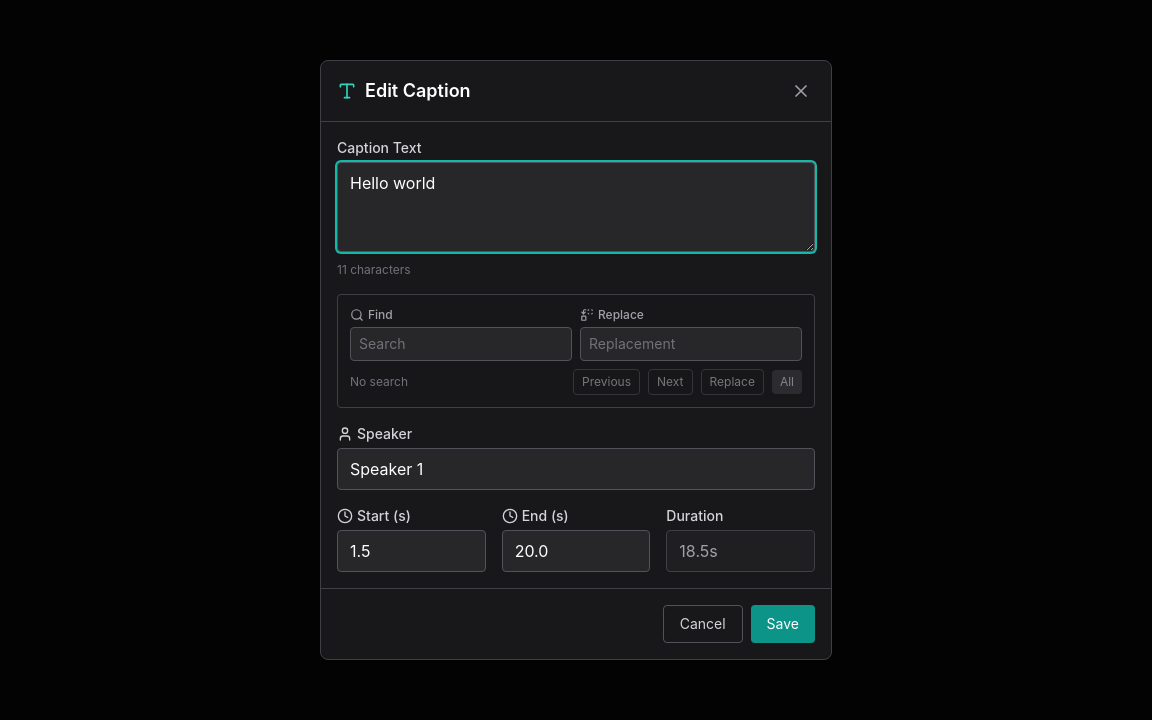
it: CaptionEditor › Time Editing › allows editing end time
The width and height of the screenshot is (1152, 720).
Step 1. Replace the text in the number field labelled "End (s)" with "25.0" → [576, 551], box [502,530,650,572]
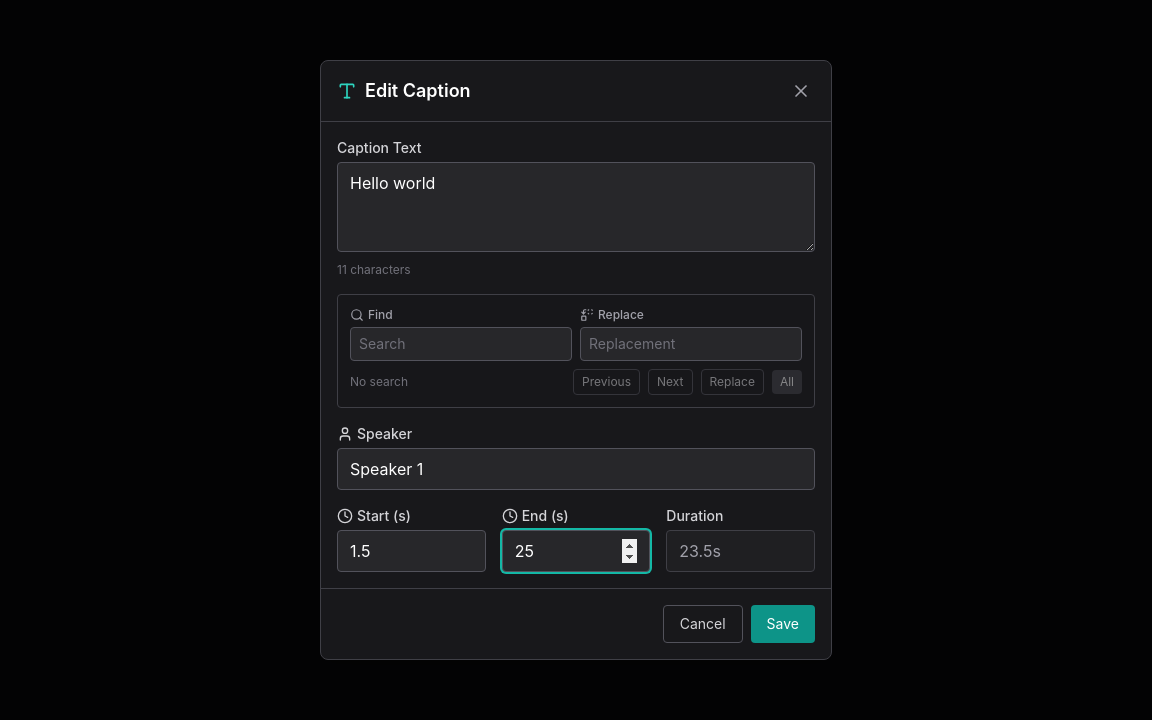
Check: the number field labelled "End (s)" holds "25", box [502,530,650,572]
